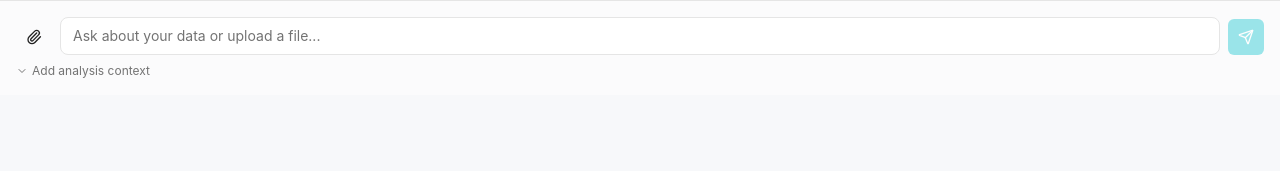
Scenario: ChatInput — context panel › shows counter once user types
The width and height of the screenshot is (1280, 171).
Click the button "Add analysis context": (83, 71) [16, 63, 150, 79]
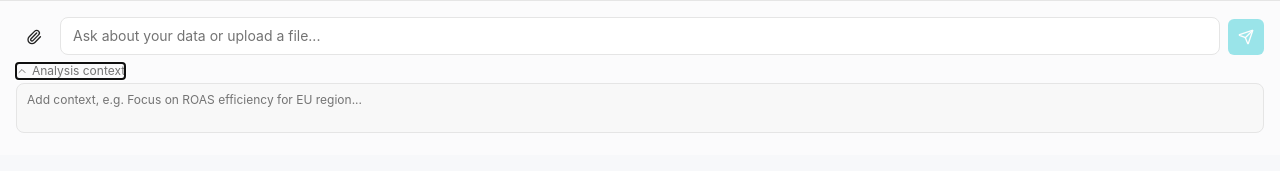
In the text box with placeholder "Add context, e.g. Focus on ROAS efficiency for EU region...": (640, 108) [16, 83, 1264, 133], type "Hello"
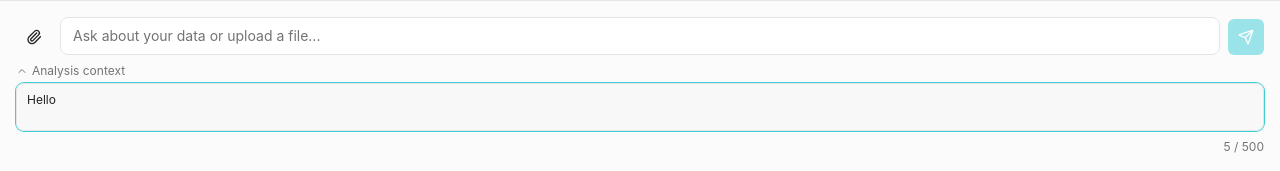
Expected: the text "5 / 500" is shown, [1224, 139, 1264, 154]
